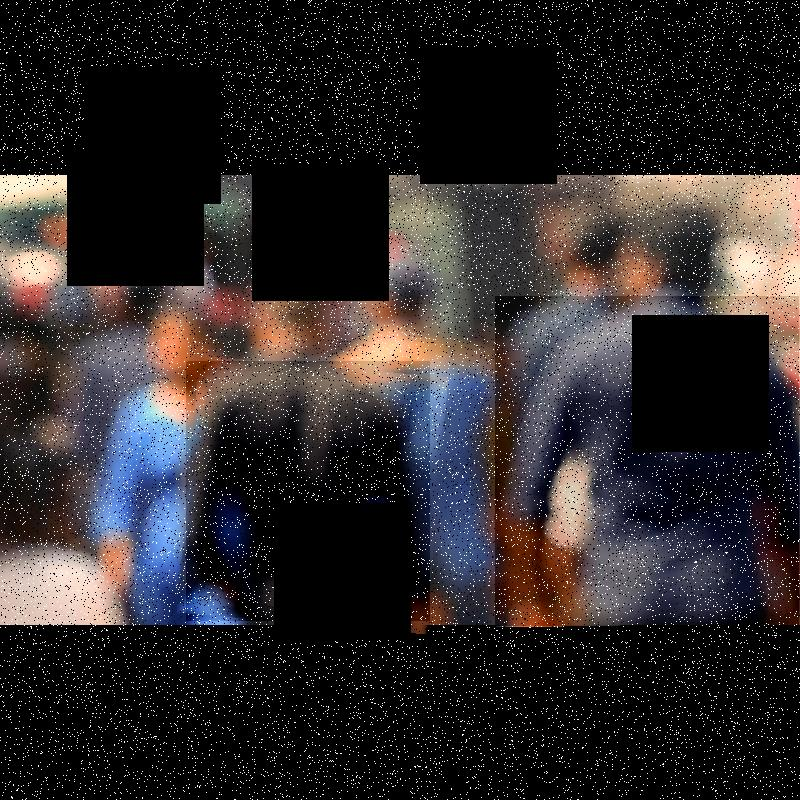Shirt: (495, 296, 799, 626), (186, 361, 430, 621)
